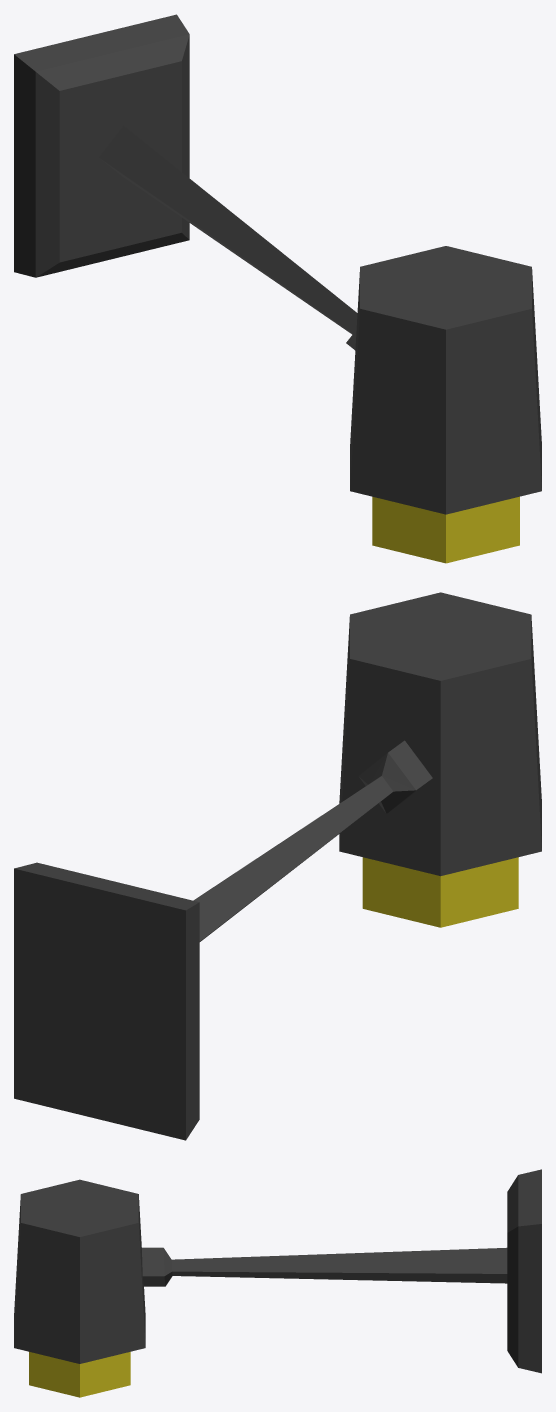
The model's file is SM_lamp_02.fbx.
3 views of the same model, one above another, from view 1: azimuth 30°, elevation 25°; view 2: azimuth 150°, elevation 25°; view 3: azimuth 270°, elevation 25° (orthographic). The views are drawn at different scales.
Parts seen in each view (by area): view 1: Box060; view 2: Box060; view 3: Box060.
Part boxes in pixels (x1,y1,x2,y2): Box060: (14,14,541,563); Box060: (14,592,541,1140); Box060: (14,1169,541,1397).
Size of the model in its own units: 7.47 by 9.31 by 25.94.
